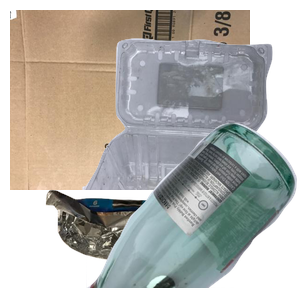cardboard: (10, 10, 250, 190)
glass: (86, 120, 300, 300)
plastic: (80, 36, 300, 216)
trash: (43, 187, 234, 300)
